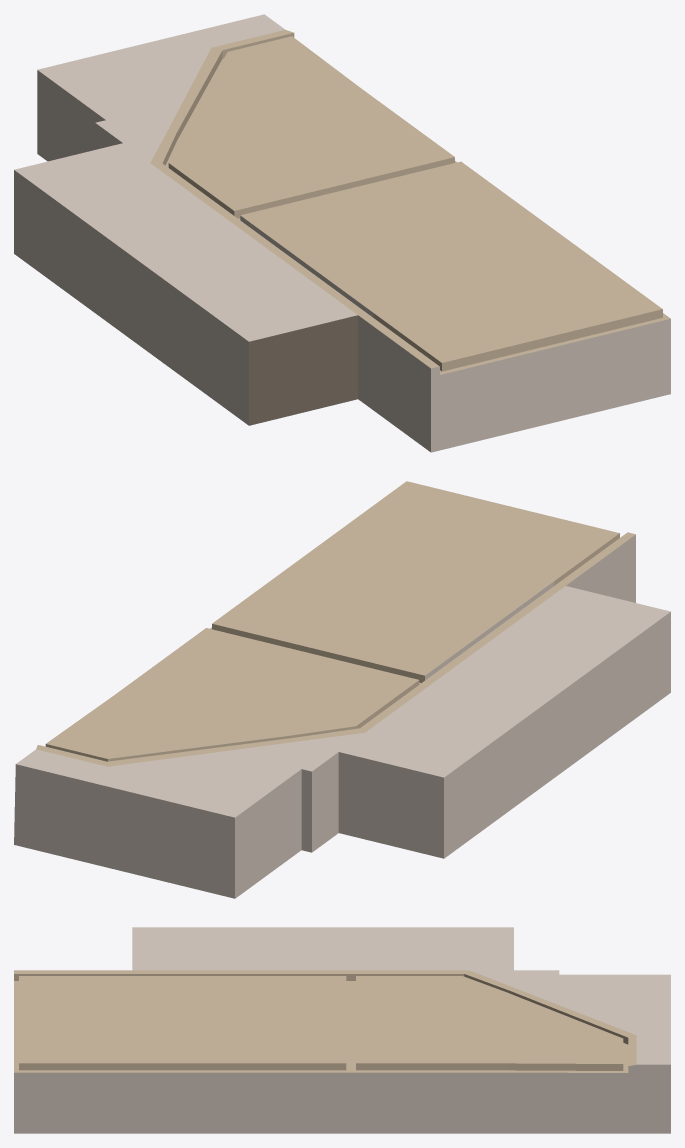
File: tile6.fbx
3 renders of one model, top to bottom at view 1: azimuth 30°, elevation 25°; view 2: azimuth 150°, elevation 25°; view 3: azimuth 270°, elevation 25°, orthographic. The views are drawn at different scales.
Visible parts, largest first — view 1: Tile6MainP; view 2: Tile6MainP; view 3: Tile6MainP.
Boxes of the visible parts, <box> form: Tile6MainP: <box>14,14,670,452</box>; Tile6MainP: <box>14,481,670,898</box>; Tile6MainP: <box>14,927,670,1133</box>.
Bounding box in the file's own units: 67.98 × 15.57 × 136.
